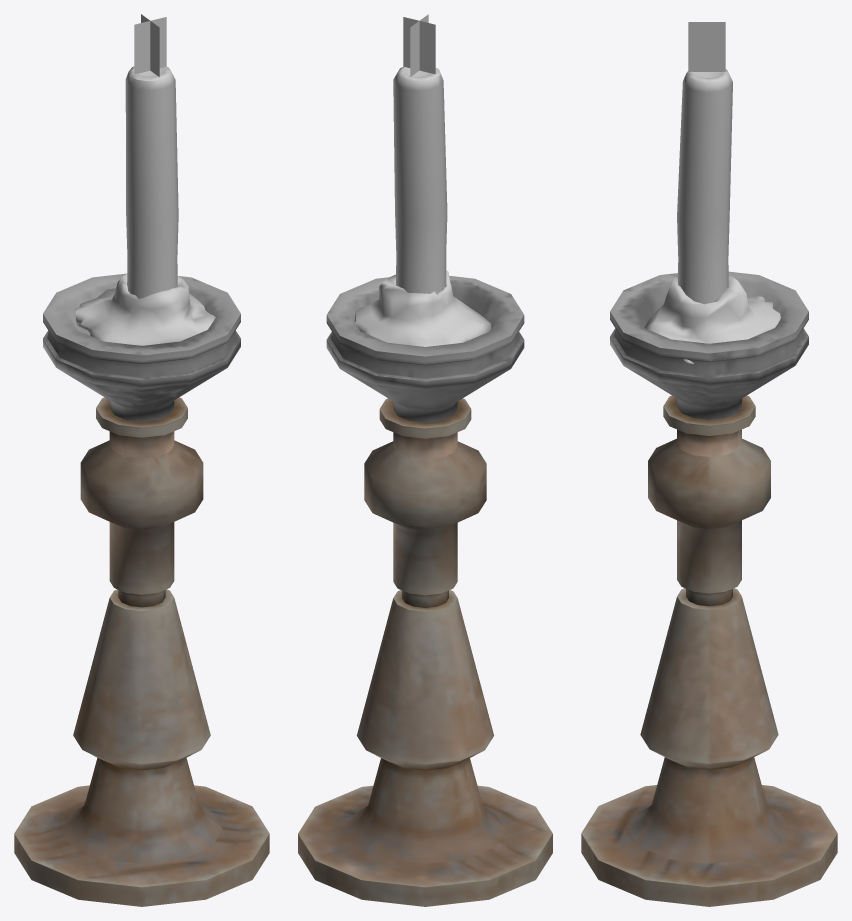
File: SM_candlestick_01.fbx
3 views of the same model, side by side, from view 1: azimuth 30°, elevation 25°; view 2: azimuth 150°, elevation 25°; view 3: azimuth 270°, elevation 25° (orthographic).
Visible parts, largest first — view 1: SM_candlestick_01_LOD0; view 2: SM_candlestick_01_LOD0; view 3: SM_candlestick_01_LOD0.
Boxes of the visible parts, bbox=[...] form: SM_candlestick_01_LOD0: bbox=[14, 14, 269, 906]; SM_candlestick_01_LOD0: bbox=[298, 14, 552, 906]; SM_candlestick_01_LOD0: bbox=[581, 22, 837, 906].
Bounding box in the file's own units: 17.67 × 17.67 × 63.45.
